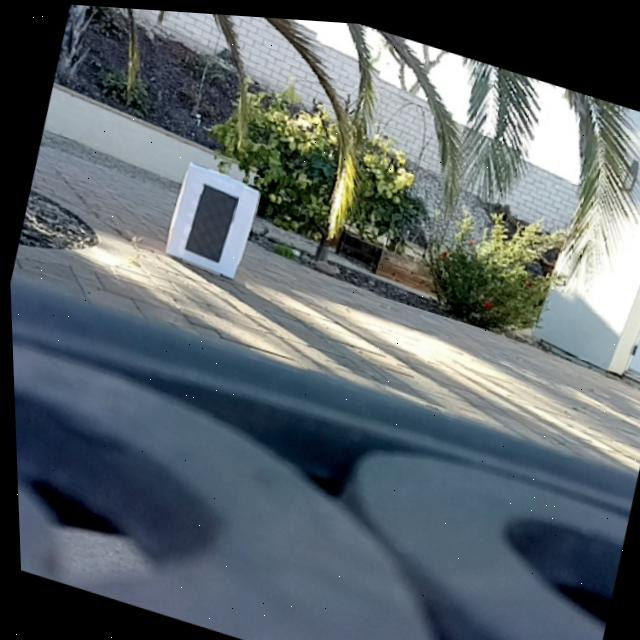led: (182, 179, 238, 261)
